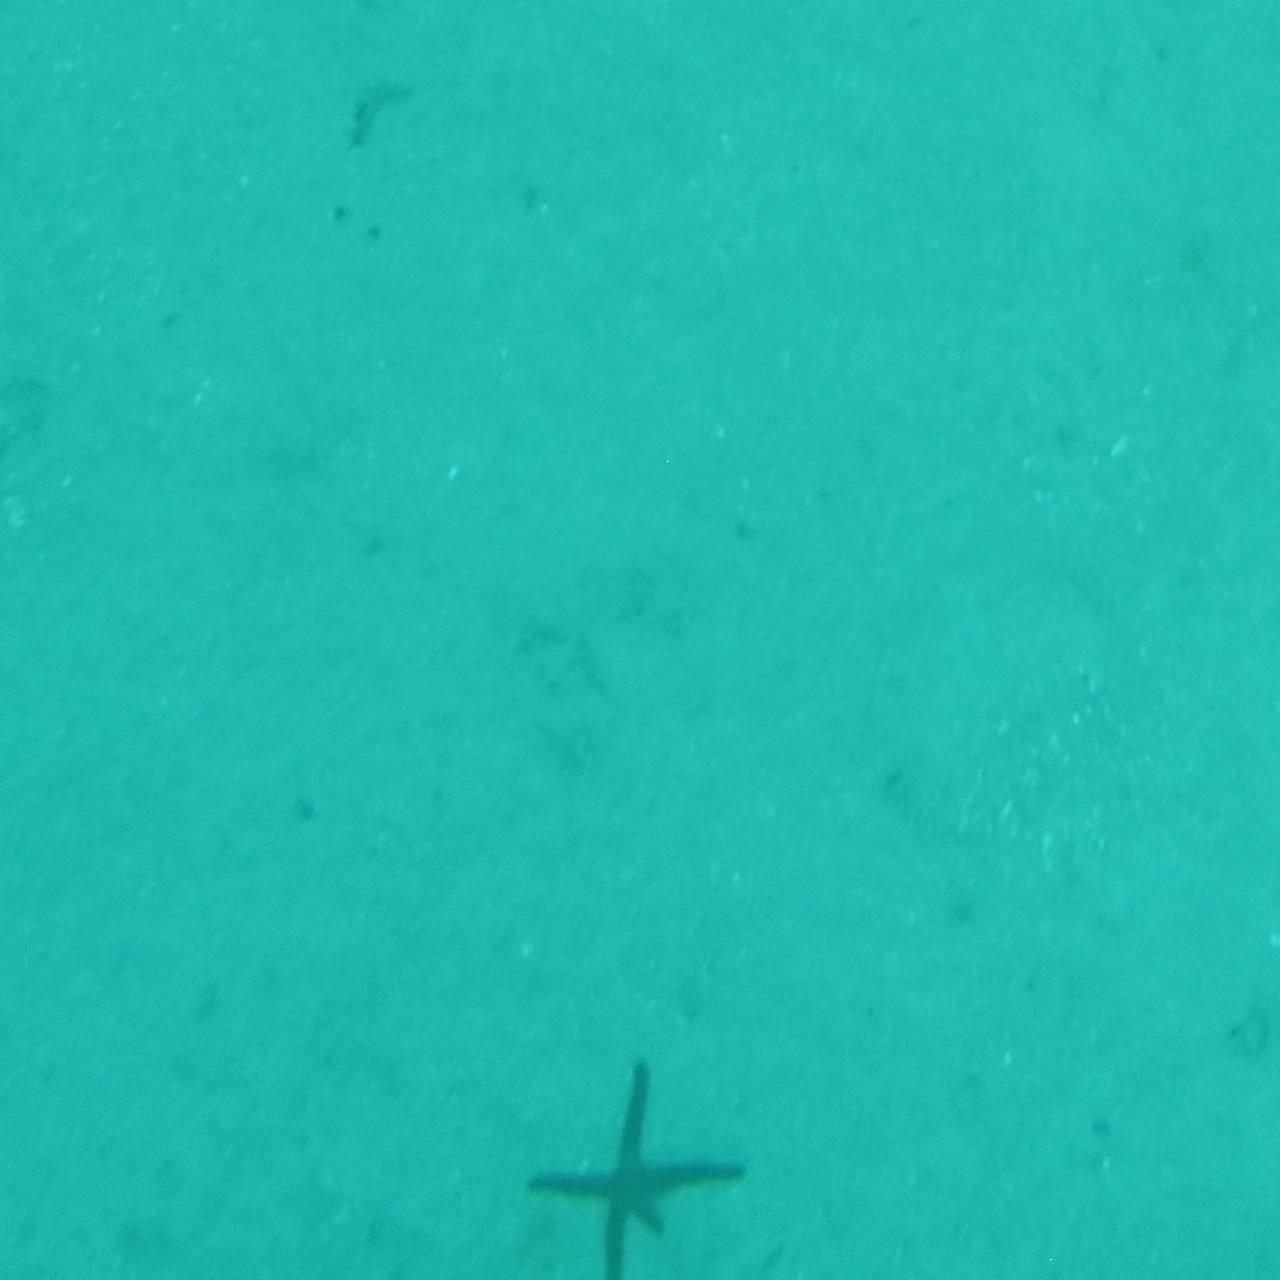Echinaster sepositus: (527, 1047, 753, 1279)
